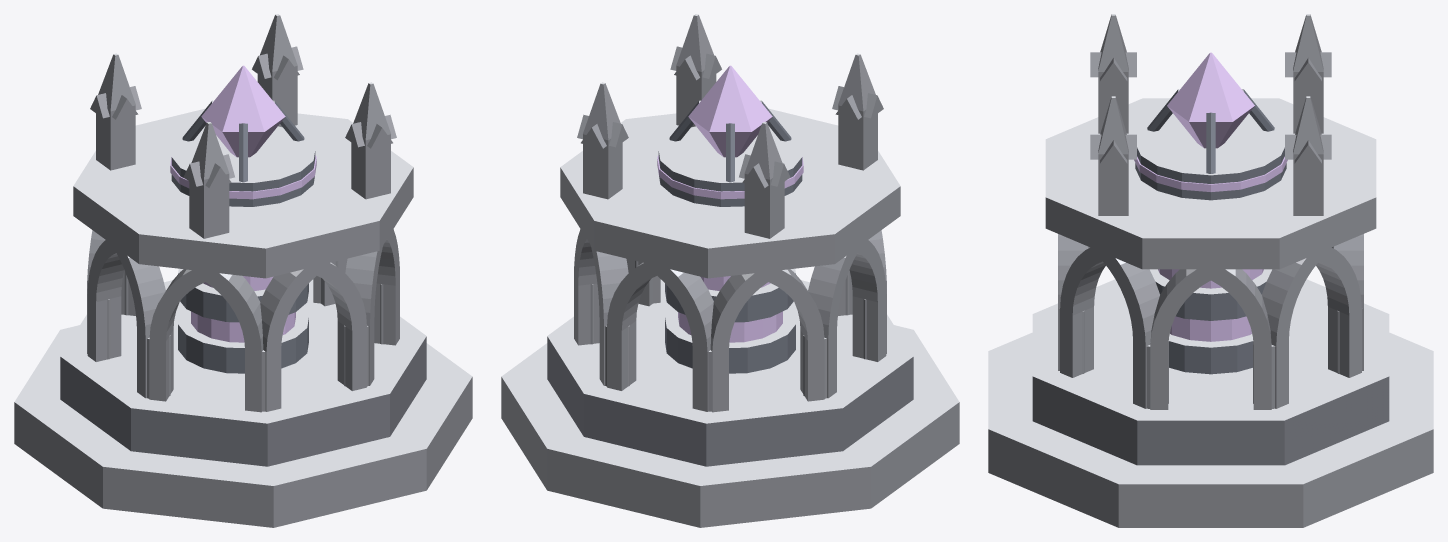
Rendered from PR_Emissor_Pilar.fbx.
The picture shows the model from 3 angles, left to right: view 1: azimuth 30°, elevation 25°; view 2: azimuth 150°, elevation 25°; view 3: azimuth 270°, elevation 25°; orthographic projection. The views are drawn at different scales.
Parts seen in each view (by area): view 1: PR_Emissor_Pilar; view 2: PR_Emissor_Pilar; view 3: PR_Emissor_Pilar.
Part boxes in pixels (x1,y1,x2,y2): PR_Emissor_Pilar: [14, 14, 472, 527]; PR_Emissor_Pilar: [501, 14, 959, 527]; PR_Emissor_Pilar: [988, 14, 1433, 527].
Bounding box in the file's own units: 3.23 × 3.05 × 3.23.
